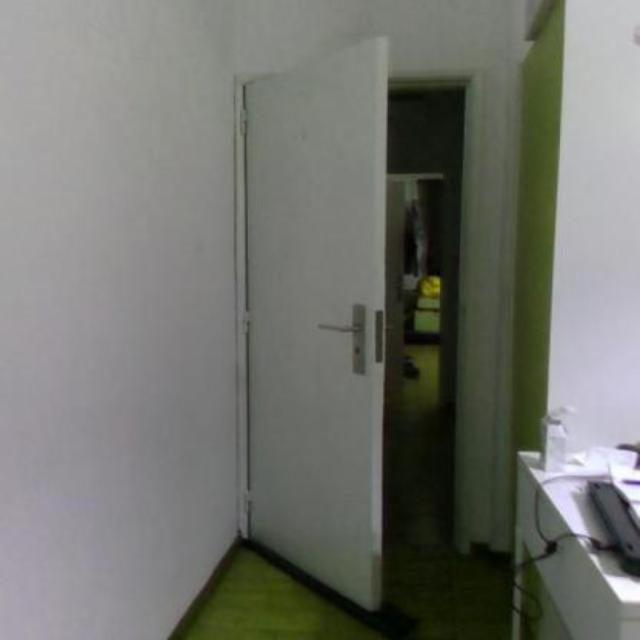Door: (240, 35, 388, 612)
